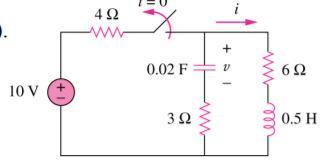Capacitor: (186, 49, 217, 83)
